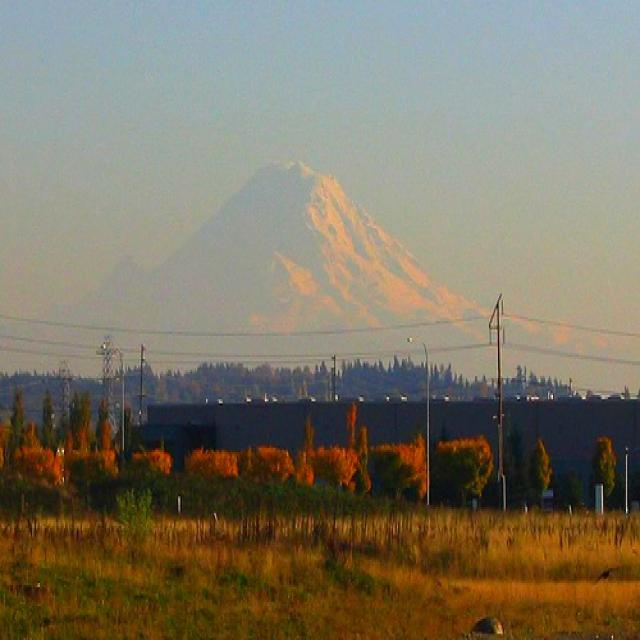pole: (497, 305, 506, 515)
wire: (26, 317, 488, 338), (506, 310, 640, 340)
